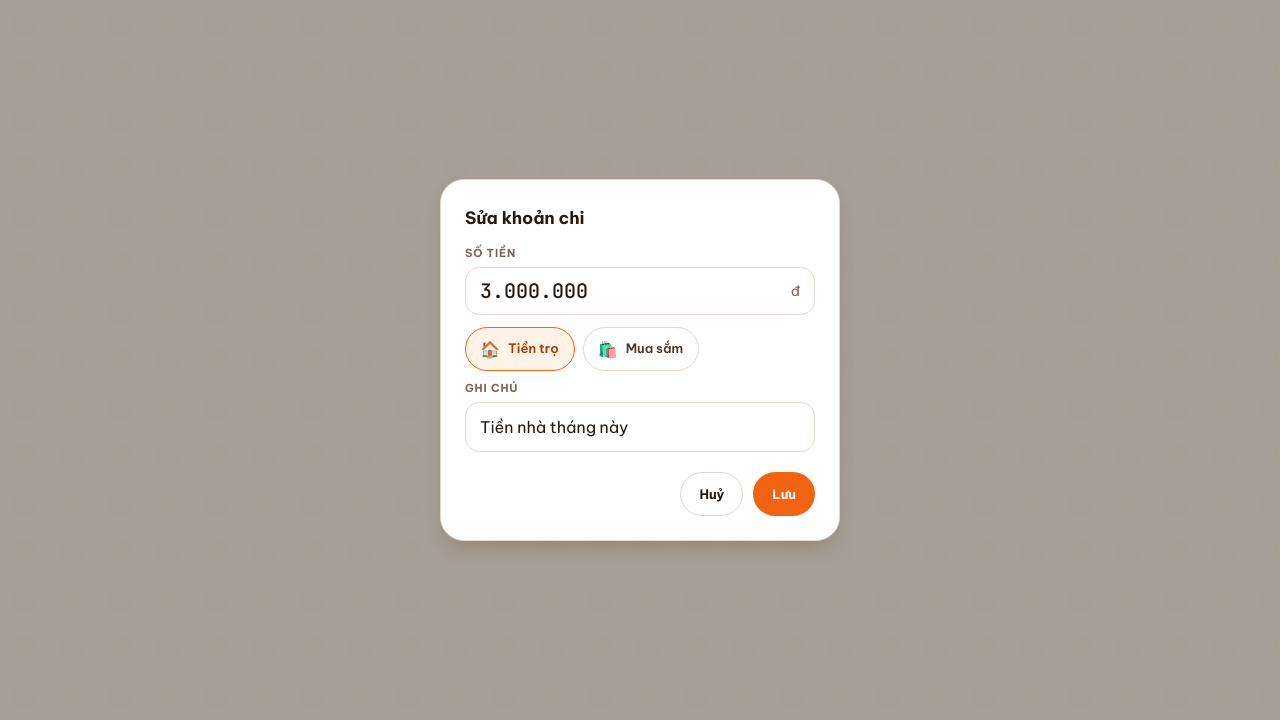
Test: EditExpenseModal › blocks saving an amount above 999.999.999.999 đ
Replace the text in the field labelled "Số tiền" with "12345678901234567" at [631, 291], box [480, 268, 783, 314]
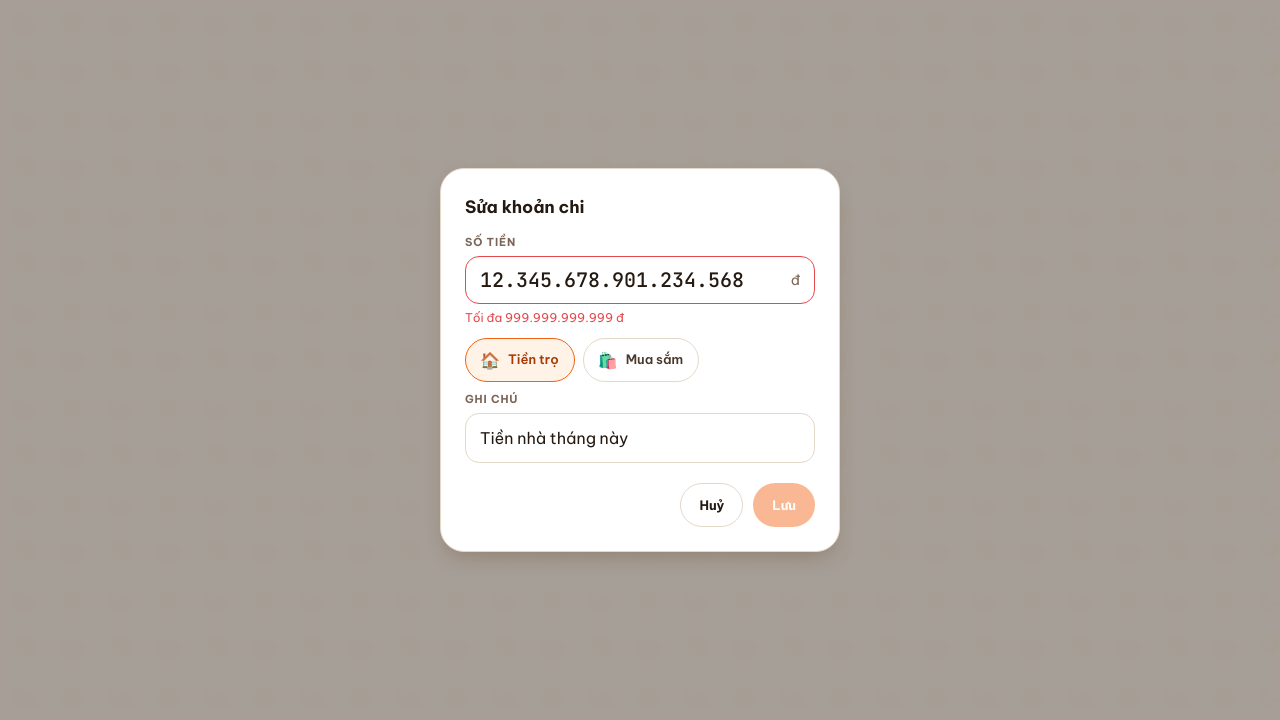
Result: the text "Tối đa 999.999.999.999 đ" is shown at [465, 310, 624, 325]
Result: the button "Lưu" is disabled at [753, 483, 815, 527]
